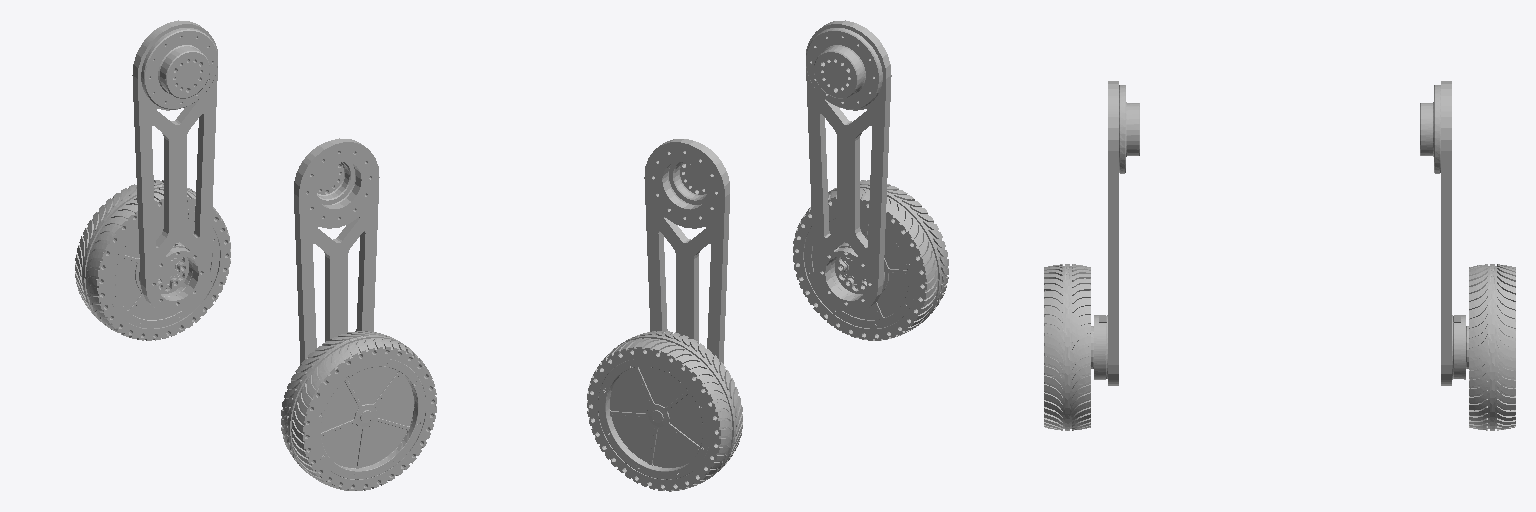
robot.urdf — wheeled_leg_v2:
<?xml version="1.0" encoding="utf-8"?>
<!-- This URDF was automatically created by SolidWorks to URDF Exporter! Originally created by Stephen Brawner (brawner@gmail.com) 
     Commit Version: 1.6.0-4-g7f85cfe  Build Version: 1.6.7995.38578
     For more information, please see http://wiki.ros.org/sw_urdf_exporter -->
<robot
  name="wheeled_leg_v2">
  <link
    name="base_link">
    <inertial>
      <origin
        xyz="-0.015398 0.0002546 0.065682"
        rpy="0 0 0" />
      <mass
        value="10.337" />
      <inertia
        ixx="1.259"
        ixy="0.0"
        ixz="-0.368"
        iyy="1.478"
        iyz="-0.002"
        izz="0.26" />
    </inertial>
    <visual>
      <origin
        xyz="0 0 0"
        rpy="0 0 0" />
      <geometry>
        <mesh
          filename="package://wheeled_leg_v2/meshes/base_link.STL" />
      </geometry>
      <material
        name="">
        <color
          rgba="0.75294 0.75294 0.75294 1" />
      </material>
    </visual>
    <collision>
      <origin
        xyz="0 0 0"
        rpy="0 0 0" />
      <geometry>
        <mesh
          filename="package://wheeled_leg_v2/meshes/base_link.STL" />
      </geometry>
    </collision>
  </link>
  <link
    name="HipL">
    <inertial>
      <origin
        xyz="0.094322 -1.4086E-15 -0.015998"
        rpy="0 0 0" />
      <mass
        value="3.721" />
      <inertia
        ixx="0.279"
        ixy="-0.033"
        ixz="0.025"
        iyy="0.088"
        iyz="0.099"
        izz="0.214" />
    </inertial>
    <visual>
      <origin
        xyz="0 0 0"
        rpy="0 0 0" />
      <geometry>
        <mesh
          filename="package://wheeled_leg_v2/meshes/HipL.STL" />
      </geometry>
      <material
        name="">
        <color
          rgba="0.75294 0.75294 0.75294 1" />
      </material>DistillationRunnerCfg
    </visual>
    <collision>
      <origin
        xyz="0 0 0"
        rpy="0 0 0" />
      <geometry>
        <mesh
          filename="package://wheeled_leg_v2/meshes/HipL.STL" />
      </geometry>
    </collision>
  </link>
  <joint
    name="HipL"
    type="revolute">
    <origin
      xyz="-0.00023349 0.11001 -0.017209"
      rpy="1.5708 1.5708 0" />
    <parent
      link="base_link" />
    <child
      link="HipL" />
    <axis
      xyz="0 0 -1" />
    <limit
      lower="-3.14"
      upper="3.14"
      effort="120"
      velocity="0" />
  </joint>
  <link
    name="KneeL">
    <inertial>
      <origin
        xyz="0.10421 3.9205E-15 0.0277"
        rpy="0 0 0" />
      <mass
        value="0.7847" />
      <inertia
        ixx="0.173"
        ixy="-0.017"
        ixz="0.003"
        iyy="0.009"
        iyz="0.032"
        izz="0.169" />
    </inertial>
    <visual>
      <origin
        xyz="0 0 0"
        rpy="0 0 0" />
      <geometry>
        <mesh
          filename="package://wheeled_leg_v2/meshes/KneeL.STL" />
      </geometry>
      <material
        name="">
        <color
          rgba="0.75294 0.75294 0.75294 1" />
      </material>
    </visual>
    <collision>
      <origin
        xyz="0 0 0"
        rpy="0 0 0" />
      <geometry>
        <mesh
          filename="package://wheeled_leg_v2/meshes/KneeL.STL" />
      </geometry>
    </collision>
  </link>
  <joint
    name="KneeL"
    type="revolute">
    <origin
      xyz="0.282 0 -0.0467"
      rpy="3.1416 0 0" />
    <parent
      link="HipL" />
    <child
      link="KneeL" />
    <axis
      xyz="0 0 -1" />
    <limit
      lower="-3.14"
      upper="3.14"
      effort="120"
      velocity="0" />
  </joint>
  <link
    name="HubL">
    <inertial>
      <origin
        xyz="1.3804E-05 -1.5091E-06 -0.02755"
        rpy="0 0 0" />
      <mass
        value="1.1563" />
      <inertia
        ixx="0.438"
        ixy="-0.034"
        ixz="0.002"
        iyy="0.007"
        iyz="0.028"
        izz="0.441" />
    </inertial>
    <visual>
      <origin
        xyz="0 0 0"
        rpy="0 0 0" />
      <geometry>
        <mesh
          filename="package://wheeled_leg_v2/meshes/HubL.STL" />
      </geometry>
      <material
        name="">
        <color
          rgba="0.75294 0.75294 0.75294 1" />
      </material>
    </visual>
    <collision>
      <origin
        xyz="0 0 0"
        rpy="0 0 0" />
      <geometry>
        <mesh
          filename="package://wheeled_leg_v2/meshes/HubL.STL" />
      </geometry>
    </collision>
  </link>
  <joint
    name="HubL"
    type="continuous">
    <origin
      xyz="0.26998 0 0.052"
      rpy="-3.1416 0 0" />
    <parent
      link="KneeL" />
    <child
      link="HubL" />
    <axis
      xyz="0 0 -1" />
    <limit
      effort="17"
      velocity="115" />
  </joint>
  <link
    name="HipR">
    <inertial>
      <origin
        xyz="0.094322 -1.3878E-15 -0.015998"
        rpy="0 0 0" />
      <mass
        value="3.721" />
      <inertia
        ixx="0.83"
        ixy="-0.033"
        ixz="0.073"
        iyy="0.639"
        iyz="0.287"
        izz="0.214" />
    </inertial>
    <visual>
      <origin
        xyz="0 0 0"
        rpy="0 0 0" />
      <geometry>
        <mesh
          filename="package://wheeled_leg_v2/meshes/HipR.STL" />
      </geometry>
      <material
        name="">
        <color
          rgba="0.75294 0.75294 0.75294 1" />
      </material>
    </visual>
    <collision>
      <origin
        xyz="0 0 0"
        rpy="0 0 0" />
      <geometry>
        <mesh
          filename="package://wheeled_leg_v2/meshes/HipR.STL" />
      </geometry>
    </collision>
  </link>
  <joint
    name="HipR"
    type="revolute">
    <origin
      xyz="-0.00023349 -0.10999 -0.017209"
      rpy="-1.5708 1.5708 0" />
    <parent
      link="base_link" />
    <child
      link="HipR" />
    <axis
      xyz="0 0 -1" />
    <limit
      lower="-3.14"
      upper="3.14"
      effort="120"
      velocity="0" />
  </joint>
  <link
    name="KneeR">
    <inertial>
      <origin
        xyz="0.10421 -4.9523E-14 0.0277"
        rpy="0 0 0" />
      <mass
        value="0.7847" />
      <inertia
        ixx="0.333"
        ixy="-0.017"
        ixz="0.017"
        iyy="0.169"
        iyz="0.162"
        izz="0.169" />
    </inertial>
    <visual>
      <origin
        xyz="0 0 0"
        rpy="0 0 0" />
      <geometry>
        <mesh
          filename="package://wheeled_leg_v2/meshes/KneeR.STL" />
      </geometry>
      <material
        name="">
        <color
          rgba="0.75294 0.75294 0.75294 1" />
      </material>
    </visual>
    <collision>
      <origin
        xyz="0 0 0"
        rpy="0 0 0" />
      <geometry>
        <mesh
          filename="package://wheeled_leg_v2/meshes/KneeR.STL" />
      </geometry>
    </collision>
  </link>
  <joint
    name="KneeR"
    type="revolute">
    <origin
      xyz="0.282 0 -0.0467"
      rpy="3.1416 0 0" />
    <parent
      link="HipR" />
    <child
      link="KneeR" />
    <axis
      xyz="0 0 -1" />
    <limit
      lower="-3.14"
      upper="3.14"
      effort="120"
      velocity="0" />
  </joint>
  <link
    name="HubR">
    <inertial>
      <origin
        xyz="1.3804E-05 -1.5094E-06 -0.02755"
        rpy="0 0 0" />
      <mass
        value="1.1563" />
      <inertia
        ixx="0.74"
        ixy="-0.034"
        ixz="0.028"
        iyy="0.309"
        iyz="0.363"
        izz="0.441" />
    </inertial>
    <visual>
      <origin
        xyz="0 0 0"
        rpy="0 0 0" />
      <geometry>
        <mesh
          filename="package://wheeled_leg_v2/meshes/HubR.STL" />
      </geometry>
      <material
        name="">
        <color
          rgba="0.75294 0.75294 0.75294 1" />
      </material>
    </visual>
    <collision>
      <origin
        xyz="0 0 0"
        rpy="0 0 0" />
      <geometry>
        <mesh
          filename="package://wheeled_leg_v2/meshes/HubR.STL" />
      </geometry>
    </collision>
  </link>
  <joint
    name="HubR"
    type="continuous">
    <origin
      xyz="0.269979068340252 0 0.0519999999999931"
      rpy="-3.14159265358979 0 0" />
    <parent
      link="KneeR" />
    <child
      link="HubR" />
    <axis
      xyz="0 0 -1" />
    <limit
      effort="17"
      velocity="115" />
  </joint>
</robot>

--- Render facts (derived) ---
3 views of the same robot in one strip: view 1: azimuth 30°, elevation 25°; view 2: azimuth 150°, elevation 25°; view 3: azimuth 270°, elevation 25° (orthographic).
Model wheeled_leg_v2 with 7 links and 6 joints (4 revolute, 2 continuous), rooted at base_link, posed all joints at 0.
Links seen in each view (by area): view 1: HubR, KneeL, KneeR, HubL; view 2: HubL, KneeR, KneeL, HubR; view 3: HubR, HubL, KneeR, KneeL.
Boxes of the visible links, box(x1,y1,x2,y2) form: HubR: box(281, 331, 436, 490); KneeL: box(132, 20, 217, 312); KneeR: box(294, 138, 379, 365); HubL: box(75, 180, 230, 340); HubL: box(587, 331, 742, 491); KneeR: box(806, 20, 891, 312); KneeL: box(644, 139, 729, 363); HubR: box(793, 180, 948, 340); HubR: box(1044, 264, 1093, 430); HubL: box(1466, 264, 1515, 430); KneeR: box(1094, 81, 1139, 385); KneeL: box(1420, 81, 1465, 385).
Size in the robot's own frame: 0.187 by 0.5286 by 0.4171 metres.
4 mesh visuals loaded from 7 distinct referenced files (4 binary STL); not drawn: 3 (reference not matched to a file when rendering).
